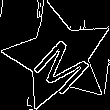M_NE: (24, 23, 93, 91)
